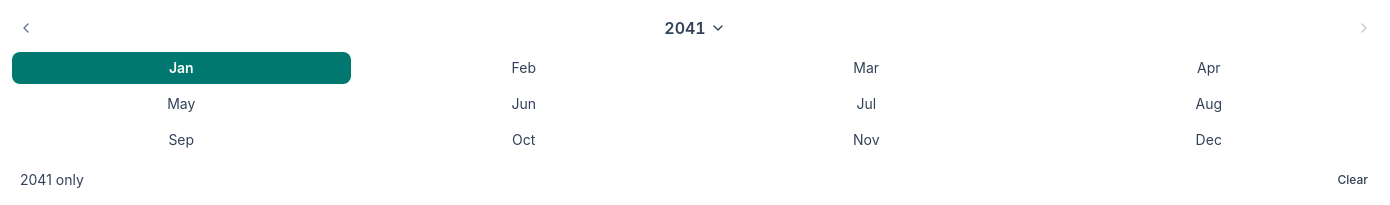
Test: YearMonthPicker year bounds › disables years beyond the allowed range in the last grid page
The width and height of the screenshot is (1390, 205).
Click the button "2041" at (695, 28), box [654, 12, 736, 44]
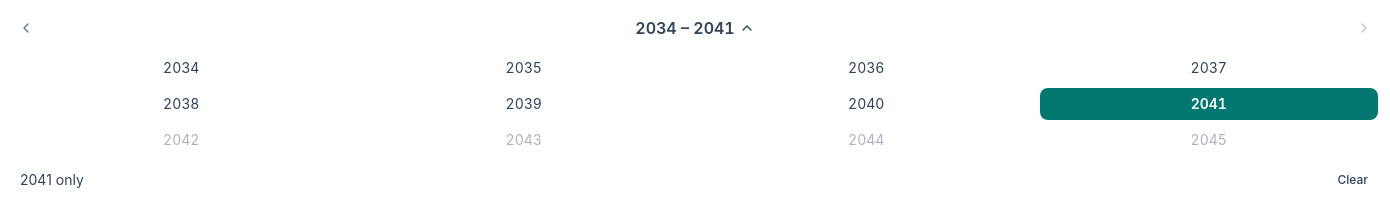
Result: the button "2042" is disabled at [12, 124, 350, 156]
Result: the button "2043" is disabled at [354, 124, 693, 156]
Result: the button "2044" is disabled at [697, 124, 1036, 156]
